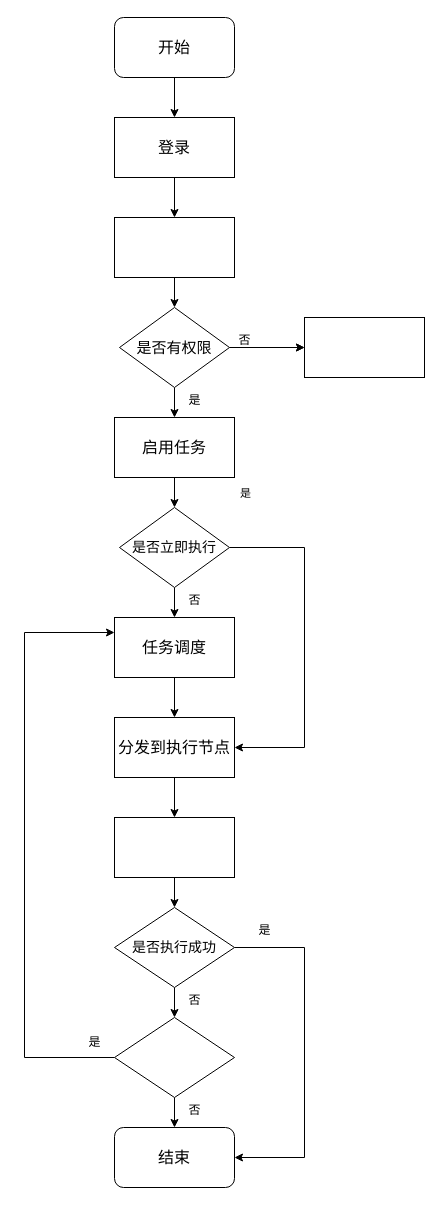
Image size: 442x1205. Some labels were removed from this diagram. Each missing label, with the box of its shape:
创建任务: (114, 216, 234, 278)
创建失败: (304, 316, 424, 378)
执行任务: (114, 816, 234, 878)
是否配置故障转移: (114, 1016, 234, 1098)
